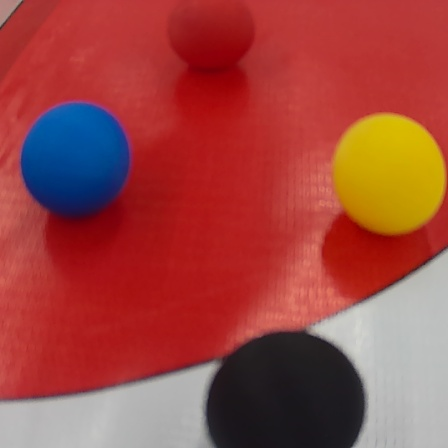black: (196, 335, 378, 445)
blue: (19, 101, 132, 217)
red: (166, 2, 262, 70)
red_base: (1, 2, 448, 397)
yellow: (332, 111, 446, 238)
